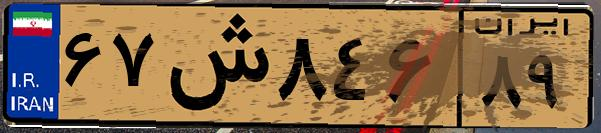4: (330, 28, 385, 110)
6: (385, 28, 445, 110), (57, 26, 110, 100)
7: (110, 28, 158, 98)
8: (270, 28, 330, 110), (475, 38, 525, 113)
9: (525, 38, 570, 115)
ش: (158, 12, 270, 120)
